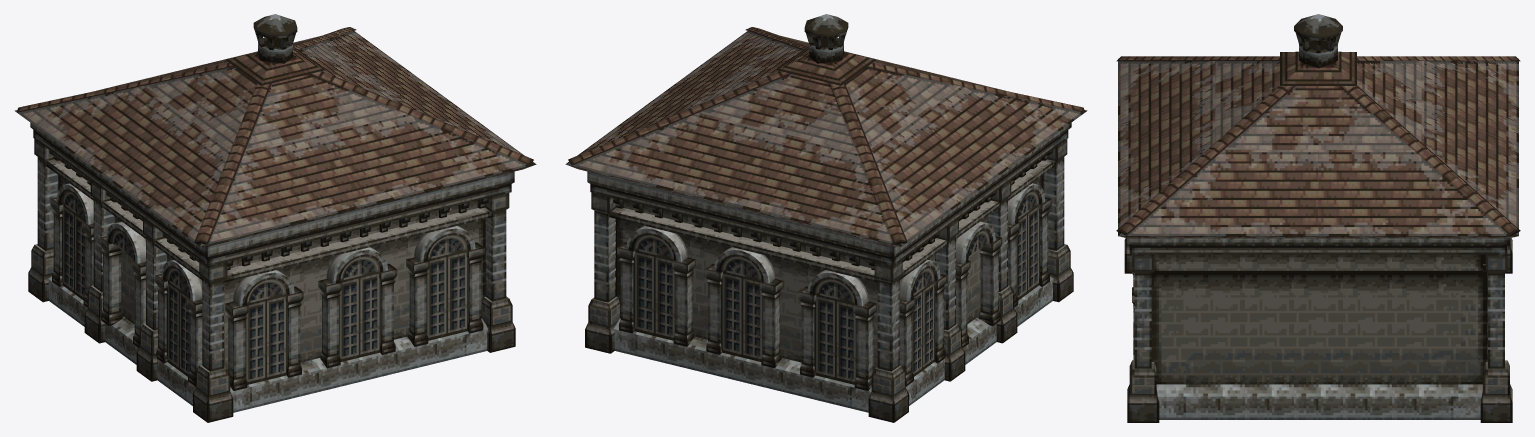
The model's file is EnvBdgMD_Snow_HerbGarden_Outdoor.FBX.
3 views of the same model, side by side, from view 1: azimuth 30°, elevation 25°; view 2: azimuth 150°, elevation 25°; view 3: azimuth 270°, elevation 25° (orthographic). The views are drawn at different scales.
Parts seen in each view (by area): view 1: EnvBdgMD_Snow_HerbGarden_Outdoor; view 2: EnvBdgMD_Snow_HerbGarden_Outdoor; view 3: EnvBdgMD_Snow_HerbGarden_Outdoor.
Boxes of the visible parts, left/top/right/bottom form: EnvBdgMD_Snow_HerbGarden_Outdoor: left=14, top=14, right=536, bottom=422; EnvBdgMD_Snow_HerbGarden_Outdoor: left=565, top=14, right=1087, bottom=422; EnvBdgMD_Snow_HerbGarden_Outdoor: left=1116, top=14, right=1520, bottom=422.
Size of the model in its own units: 864 by 740 by 825.
1 material, 1 textured.
